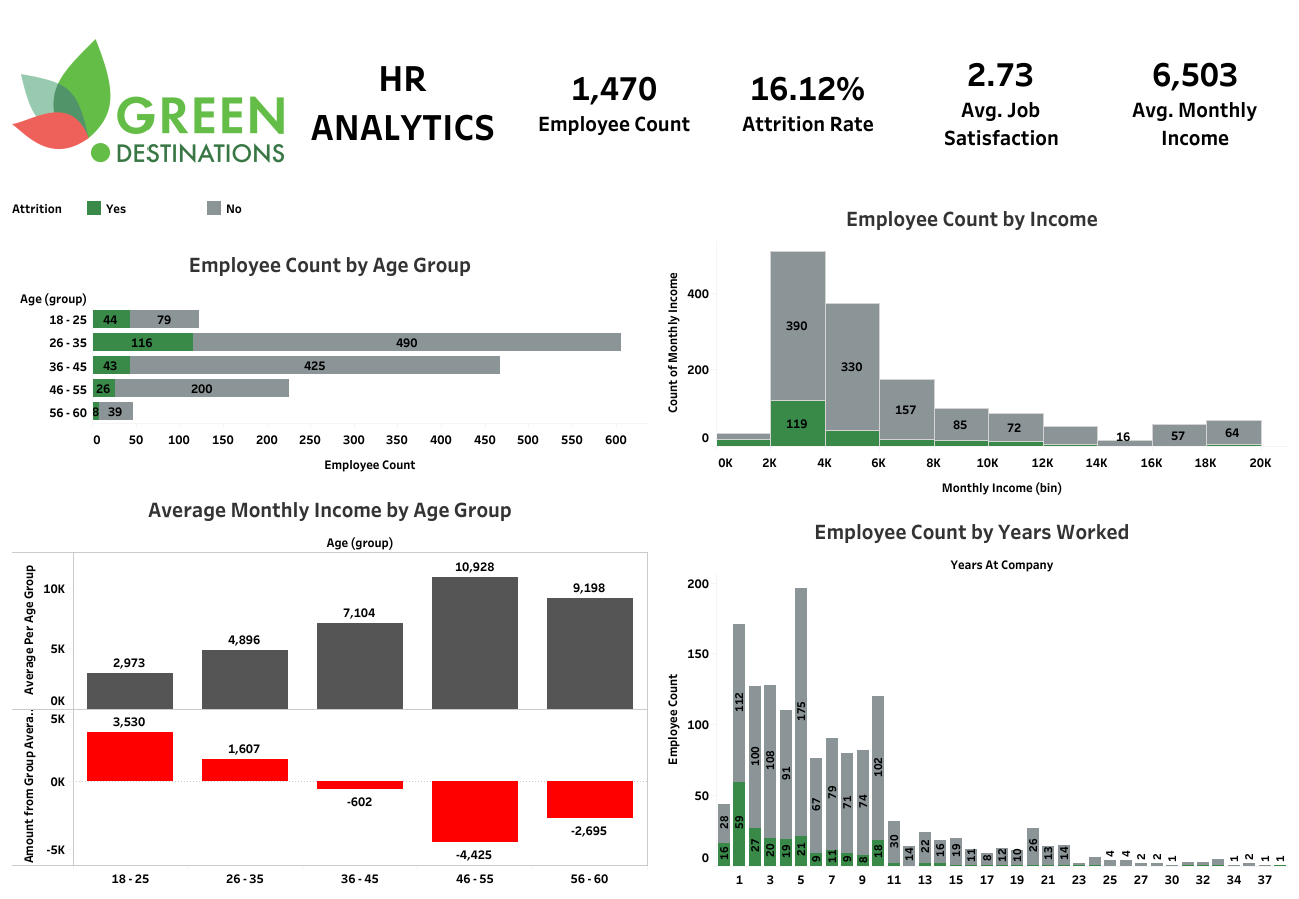

This screenshot's page, from the dashboard's own definition file:
{"tool":"tableau","page":{"name":"Dashboard 1","canvas":[1300,900],"ordinal":0},"visuals":[{"type":"image","param":"Image/greendestination+logo.png","box":[8,8,280,186]},{"type":"text","box":[288,8,230,186]},{"type":"worksheet","title":"Total Employee Count","mark":"Automatic","box":[518,8,193.5,186]},{"type":"worksheet","title":"Attrition Rate","mark":"Automatic","box":[711.5,8,193.5,186]},{"type":"worksheet","title":"Job Satisfaction","mark":"Automatic","box":[905,8,193.5,186]},{"type":"worksheet","title":"Average Monthly Income","mark":"Automatic","box":[1098.5,8,193.5,186]},{"type":"legend","title":"Employee Count by Age","param":"[federated.1wu7fv916eam8e1czjdqz0ytuyuk].[none:Attrition:nk]","box":[8,194,643.7,46]},{"type":"worksheet","title":"Employee Count by Income","mark":"Automatic","rows":["MonthlyIncome"],"cols":["Monthly Income (bin)"],"box":[651.7,194,640.3,313]},{"type":"worksheet","title":"Employee Count by Age","mark":"Automatic","cols":["EmployeeCount"],"box":[8,240,643.7,245]},{"type":"worksheet","title":"Average Income by age","mark":"Automatic","rows":["Calculation_648799867908595712","Calculation_648799867910348802"],"box":[8,485,643.7,407]},{"type":"worksheet","title":"Employee Count by Years Worked","mark":"Automatic","rows":["EmployeeCount"],"cols":["YearsAtCompany"],"box":[651.7,507,640.3,385]}]}

Visuals, with their boxes in screenshot pixels (x1, y1, x2, y2), scaled from the page's 1300x900 canvas onto the 1299x899 screenshot:
image: box=[8, 8, 288, 194]
text: box=[288, 8, 518, 194]
"Total Employee Count" worksheet: box=[518, 8, 711, 194]
"Attrition Rate" worksheet: box=[711, 8, 904, 194]
"Job Satisfaction" worksheet: box=[904, 8, 1098, 194]
"Average Monthly Income" worksheet: box=[1098, 8, 1291, 194]
"Employee Count by Age" legend: box=[8, 194, 651, 240]
"Employee Count by Income" worksheet: box=[651, 194, 1291, 506]
"Employee Count by Age" worksheet: box=[8, 240, 651, 484]
"Average Income by age" worksheet: box=[8, 484, 651, 891]
"Employee Count by Years Worked" worksheet: box=[651, 506, 1291, 891]
